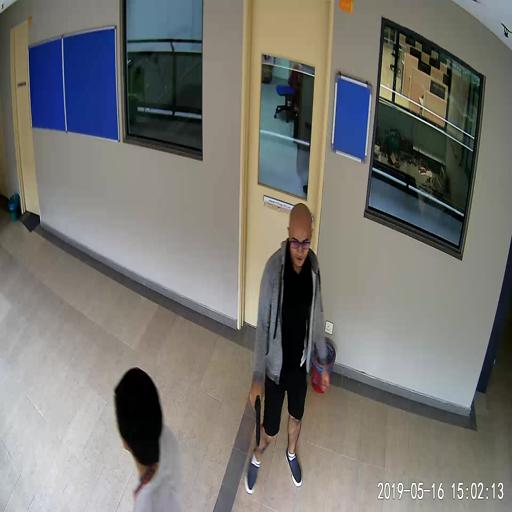pistol: (251, 393, 262, 446)
